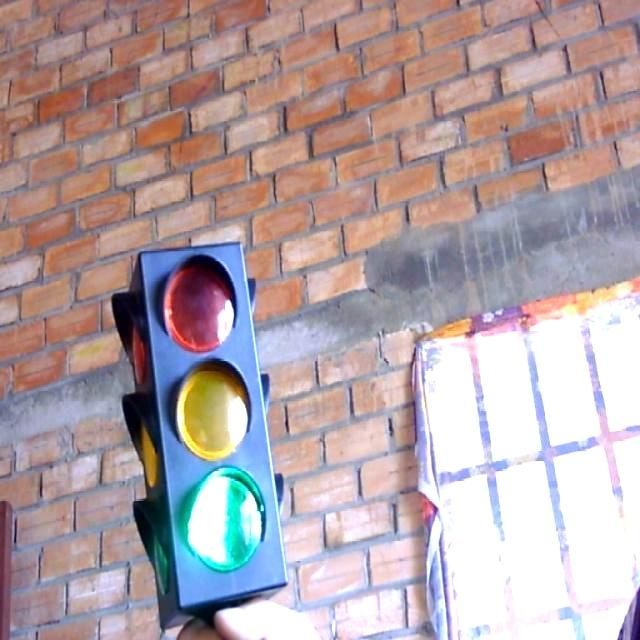Green: (107, 239, 290, 603)
